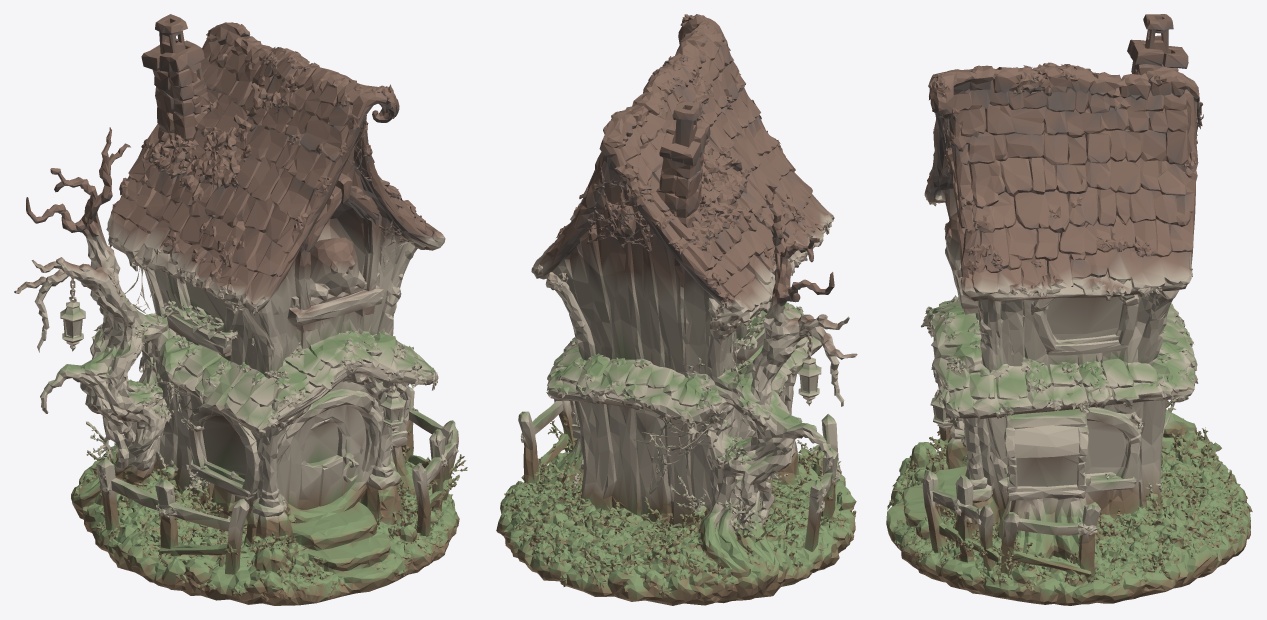
File: halloween-house-preview.glb
The picture shows the model from 3 angles, left to right: view 1: azimuth 30°, elevation 25°; view 2: azimuth 150°, elevation 25°; view 3: azimuth 270°, elevation 25°; orthographic projection. The views are drawn at different scales.
Visible parts, largest first — view 1: geometry_0; view 2: geometry_0; view 3: geometry_0.
Boxes of the visible parts, x1,y1,x2,y2 form: geometry_0: (14,14,467,605); geometry_0: (496,14,857,605); geometry_0: (886,14,1252,605).
Size of the model in its own units: 41.23 by 49.99 by 34.15.
